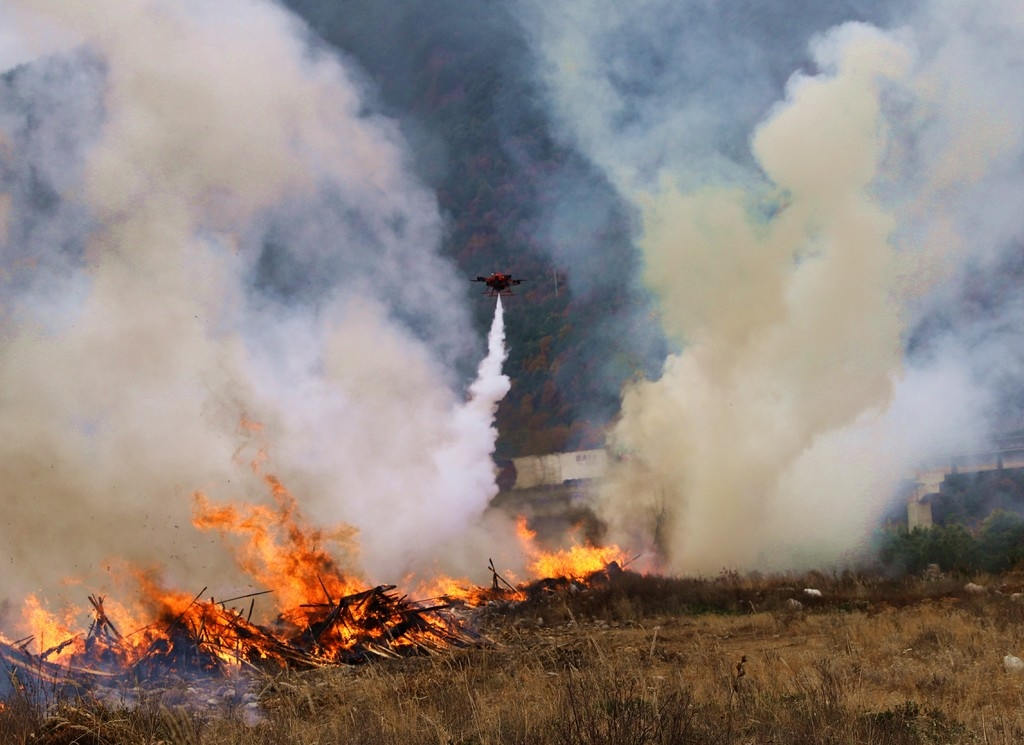fire: (3, 413, 815, 681), (161, 359, 398, 714), (399, 495, 677, 663), (2, 545, 167, 712)
